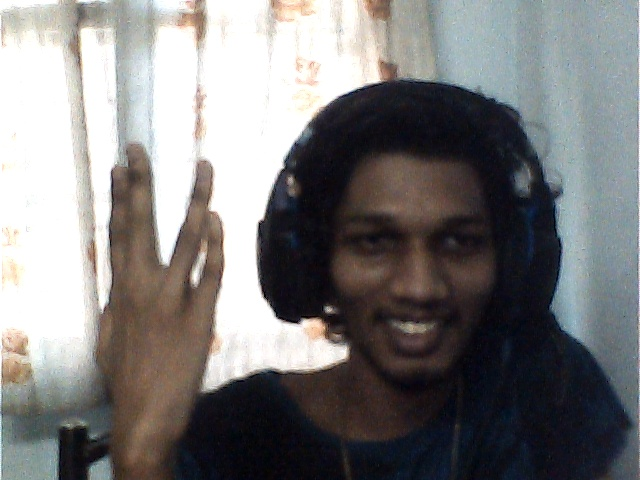LiveLong: (98, 144, 224, 447)
